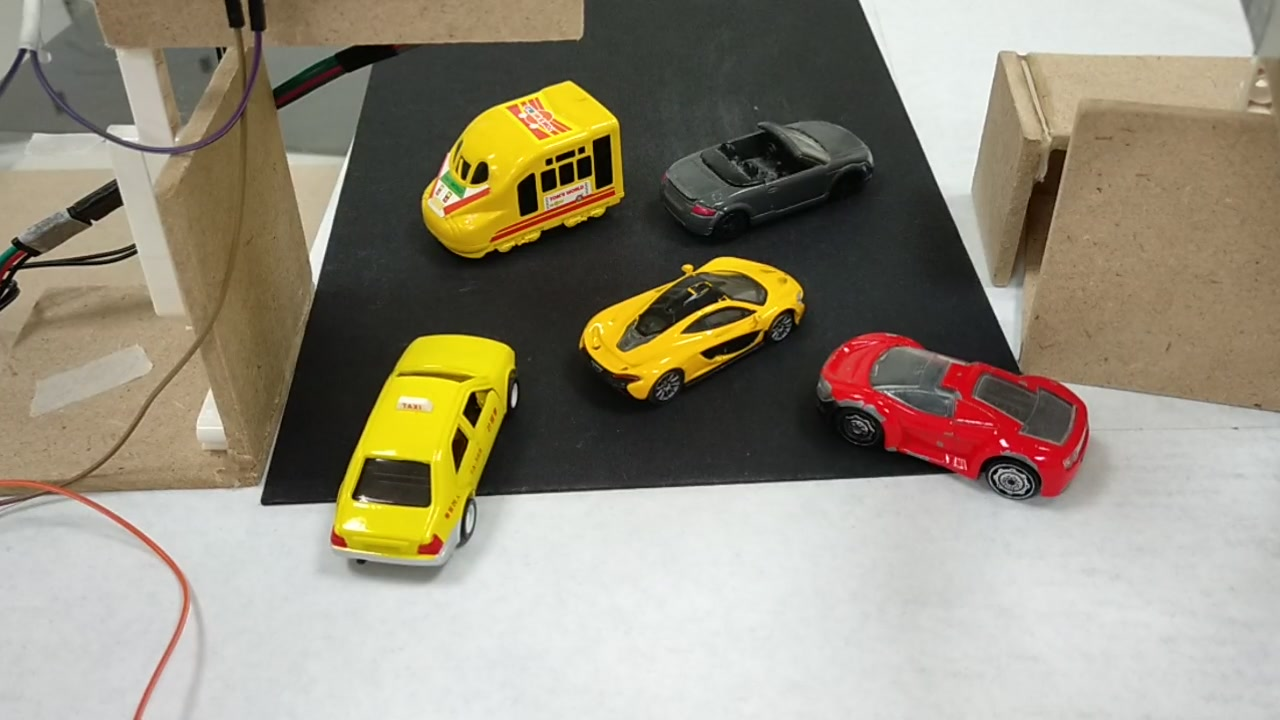car: (810, 318, 1090, 499), (330, 343, 522, 558), (577, 257, 814, 389), (650, 108, 875, 231)
